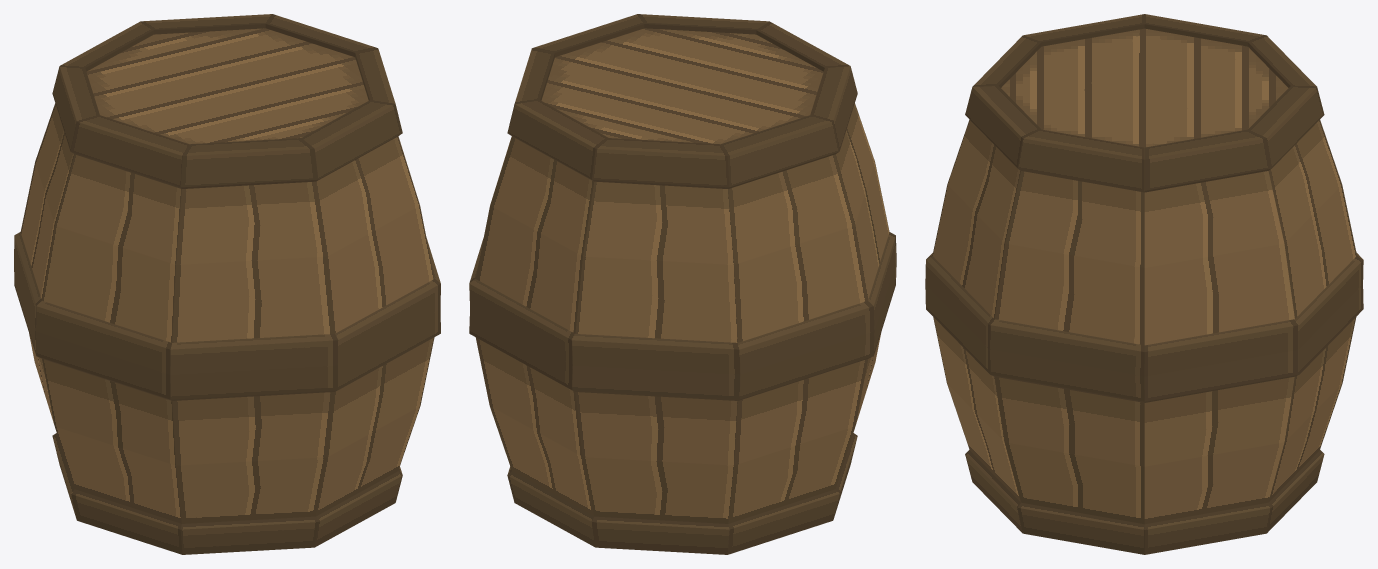
Rendered from BarrelLowPoly.glb.
3 views of the same model, side by side, from view 1: azimuth 30°, elevation 25°; view 2: azimuth 150°, elevation 25°; view 3: azimuth 270°, elevation 25° (orthographic).
Parts seen in each view (by area): view 1: Cylinder; view 2: Cylinder; view 3: Cylinder.
Boxes of the visible parts, left/top/right/bottom form: Cylinder: left=14, top=14, right=440, bottom=554; Cylinder: left=469, top=14, right=896, bottom=554; Cylinder: left=925, top=14, right=1363, bottom=554.
Size of the model in its own units: 1.5 by 1.5 by 1.5.
Materials: 1 (1 with a texture image).
